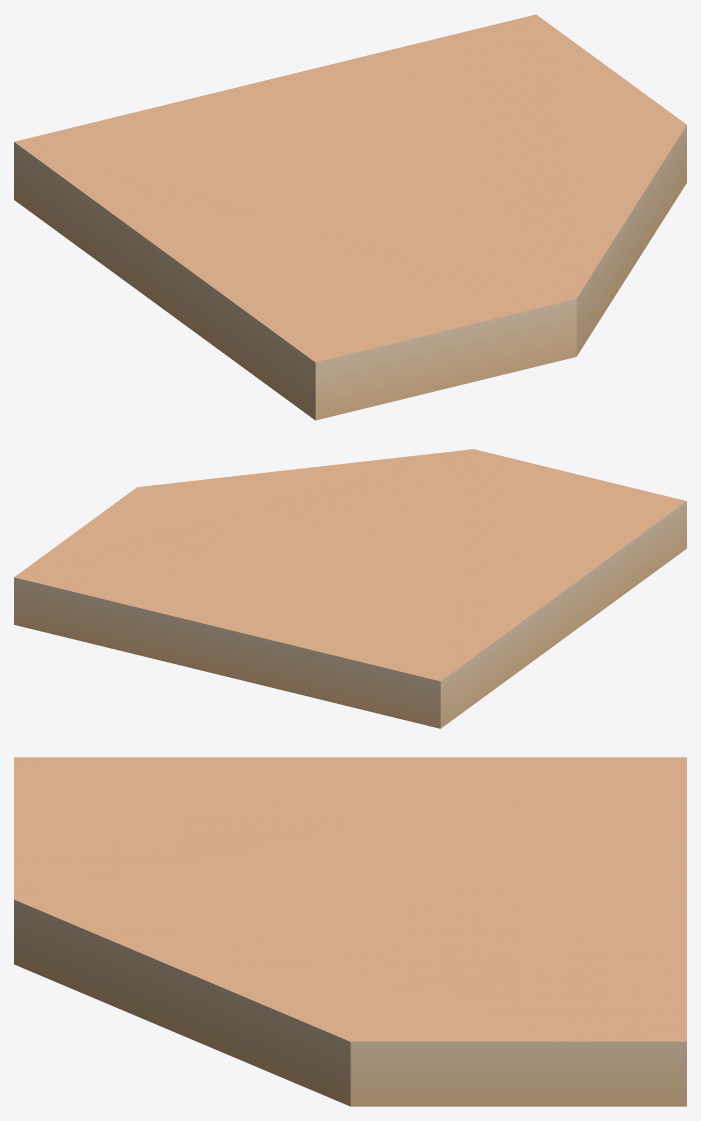
Rendered from roof-flat-corner.glb.
3 views of the same model, one above another, from view 1: azimuth 30°, elevation 25°; view 2: azimuth 150°, elevation 25°; view 3: azimuth 270°, elevation 25° (orthographic). The views are drawn at different scales.
Visible parts, largest first — view 1: roof-flat-corner; view 2: roof-flat-corner; view 3: roof-flat-corner.
Boxes of the visible parts, left/top/right/bottom form: roof-flat-corner: left=14, top=14, right=686, bottom=420; roof-flat-corner: left=14, top=449, right=686, bottom=728; roof-flat-corner: left=14, top=757, right=686, bottom=1106.
Size of the model in its own units: 1 by 0.1062 by 1.
Materials: 1 (1 with a texture image).
